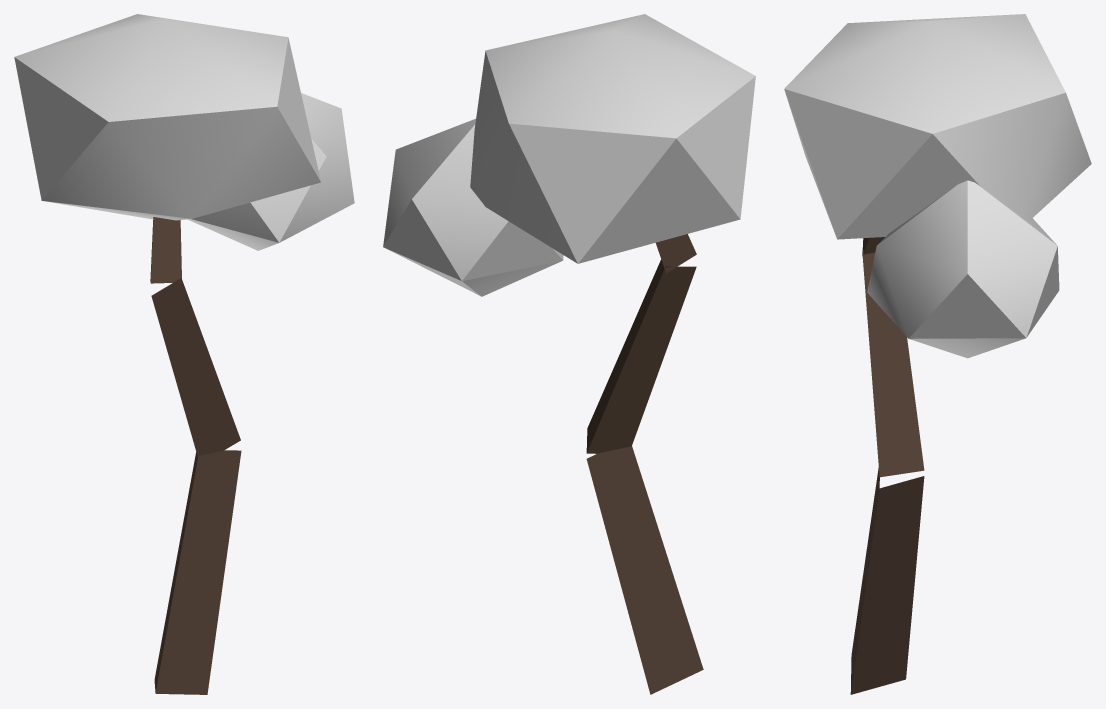
Rendered from tree_crooked_far.glb.
3 views of the same model, side by side, from view 1: azimuth 30°, elevation 25°; view 2: azimuth 150°, elevation 25°; view 3: azimuth 270°, elevation 25° (orthographic). The views are drawn at different scales.
Parts seen in each view (by area): view 1: tree_crooked_far; view 2: tree_crooked_far; view 3: tree_crooked_far.
Boxes of the visible parts, x1,y1,x2,y2 form: tree_crooked_far: (14,14,354,694); tree_crooked_far: (383,14,755,694); tree_crooked_far: (784,14,1091,694).
Size of the model in its own units: 4.34 by 8.47 by 3.51.
